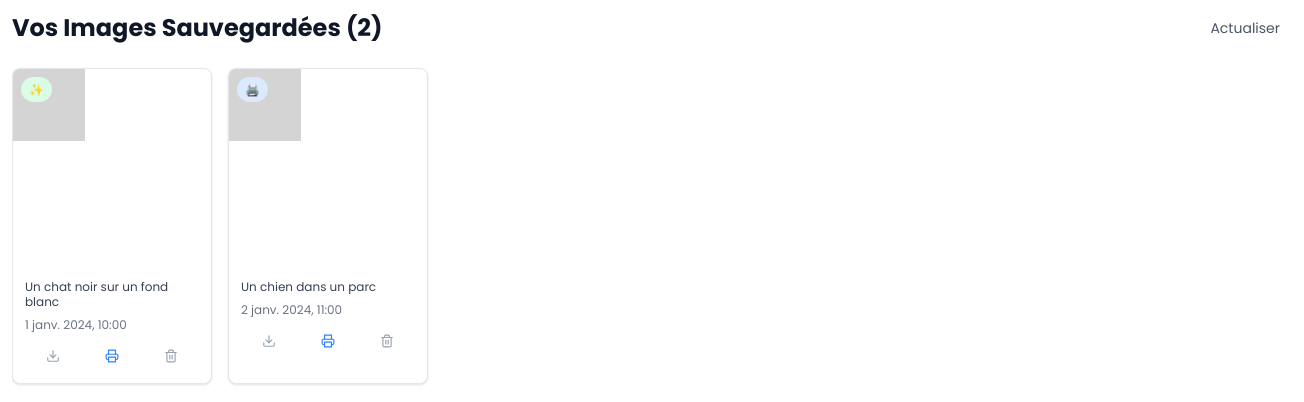
Test case: SavedImages › Suppression d'image › supprime l'image correcte de la liste
The width and height of the screenshot is (1304, 402).
expect the heading "Vos Images Sauvegardées (2)" is shown: met, box [12,12,382,44]
Click the button titled "Supprimer" below "2 janv. 2024, 11:00": (387, 341) [360,326,415,356]
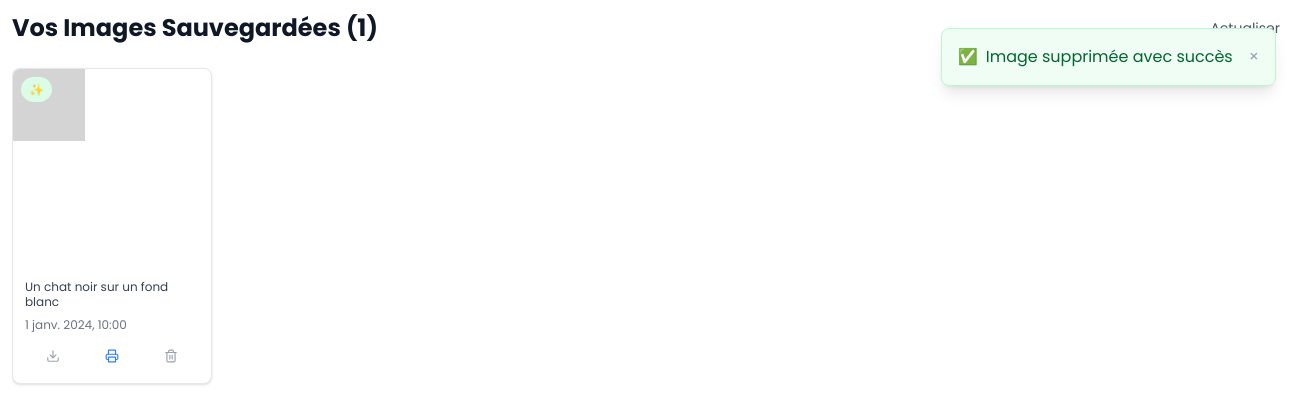
expect the text "Un chat noir sur un fond blanc" is shown: met, box [25,278,168,310]
expect the heading "Vos Images Sauvegardées (1)" is shown: met, box [12,12,378,44]
expect the text "Un chien dans un parc" is gone: met
